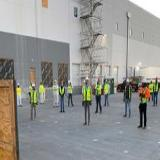Helmet: (141, 77, 148, 83), (31, 82, 36, 87), (85, 75, 88, 81), (126, 78, 130, 82), (54, 79, 57, 82), (17, 83, 20, 86)
Vest: (82, 85, 92, 104), (139, 88, 149, 104), (28, 89, 37, 104), (124, 84, 132, 100), (95, 83, 101, 96), (59, 86, 65, 96), (104, 83, 109, 95), (154, 81, 158, 93), (149, 83, 153, 93), (68, 86, 72, 93)
